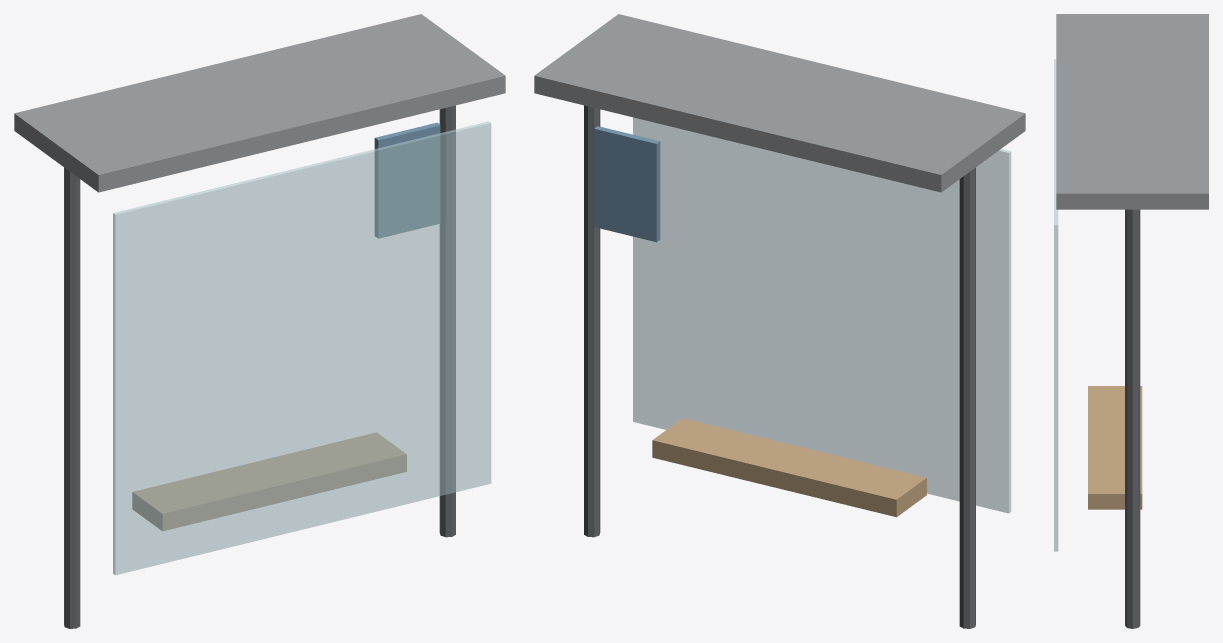
The model's file is bus_stop_03.glb.
3 renders of one model, left to right at view 1: azimuth 30°, elevation 25°; view 2: azimuth 150°, elevation 25°; view 3: azimuth 270°, elevation 25°, orthographic. The views are drawn at different scales.
Parts seen in each view (by area): view 1: backglass, roof, bench, post-0.9, post0.9, sign; view 2: backglass, roof, bench, post-0.9, sign, post0.9; view 3: roof, post0.9, bench, backglass.
Boxes of the visible parts, x1,y1,x2,y2 form: backglass: [113, 121, 491, 574]; roof: [14, 14, 505, 192]; bench: [132, 432, 406, 530]; post-0.9: [64, 167, 80, 628]; post0.9: [439, 105, 455, 537]; sign: [374, 122, 440, 238]; backglass: [633, 117, 1011, 513]; roof: [534, 14, 1025, 192]; bench: [652, 418, 926, 517]; post-0.9: [959, 167, 975, 628]; sign: [594, 126, 660, 242]; post0.9: [584, 105, 600, 537]; roof: [1056, 14, 1208, 209]; post0.9: [1125, 209, 1140, 628]; bench: [1088, 386, 1142, 509]; backglass: [1054, 59, 1058, 551].
Size of the model in its own units: 1.95 by 2.22 by 0.71.
